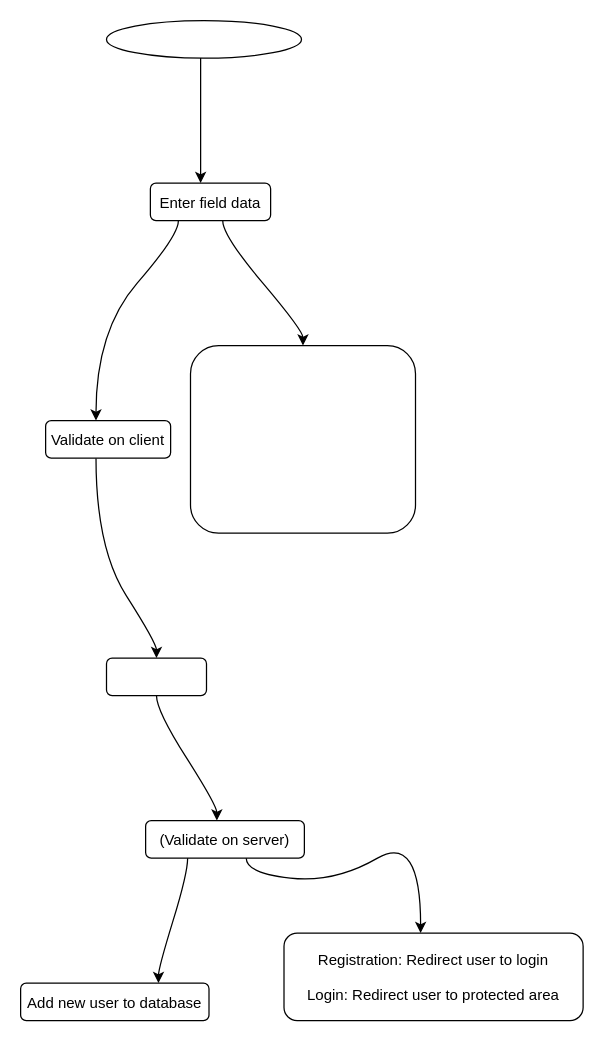
Image size: 604x1041. Some labels were removed from this diagram. Each missing label, with the box of its shape:
Examples: Registration - Email - Name - Password Login - Email - Password: (189, 344, 416, 533)
Login/registration flow: (105, 19, 302, 58)
Submit: (105, 657, 206, 696)
